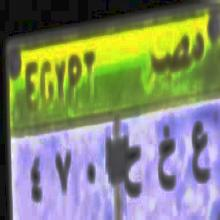0: (84, 157, 99, 194)
4: (24, 153, 47, 207)
7: (53, 148, 73, 197)
7aa: (120, 138, 143, 202)
ain: (188, 119, 212, 189)
khaa: (154, 118, 178, 198)
